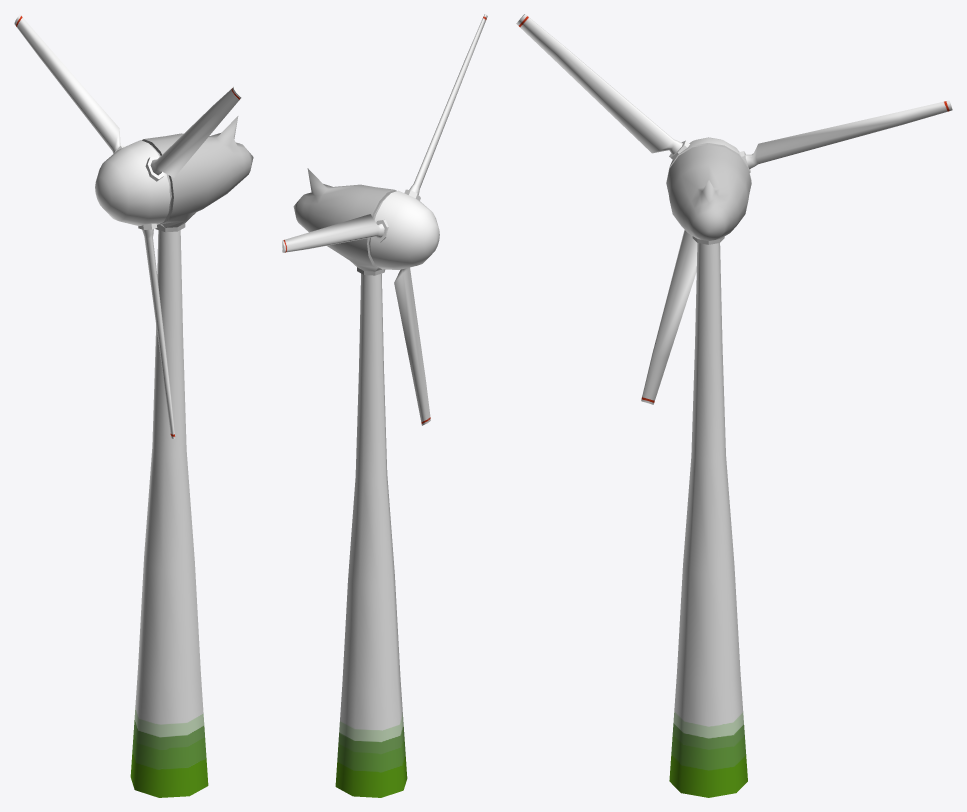
3 views of the same model, side by side, from view 1: azimuth 30°, elevation 25°; view 2: azimuth 150°, elevation 25°; view 3: azimuth 270°, elevation 25° (orthographic). The views are drawn at different scales.
Parts seen in each view (by area): view 1: pole, motor_2, motor_1; view 2: pole, motor_2, motor_1; view 3: pole, motor_2, motor_1.
Part boxes in pixels (box(x1,y1,x2,y2)): pole: box(130, 230, 208, 797); motor_2: box(14, 14, 241, 438); motor_1: box(142, 116, 253, 232); pole: box(335, 273, 407, 797); motor_2: box(282, 14, 487, 425); motor_1: box(293, 168, 396, 275); pole: box(669, 243, 747, 797); motor_2: box(516, 14, 952, 404); motor_1: box(666, 144, 751, 244).
Size of the model in its own units: 4.1 by 19.5 by 10.24.
